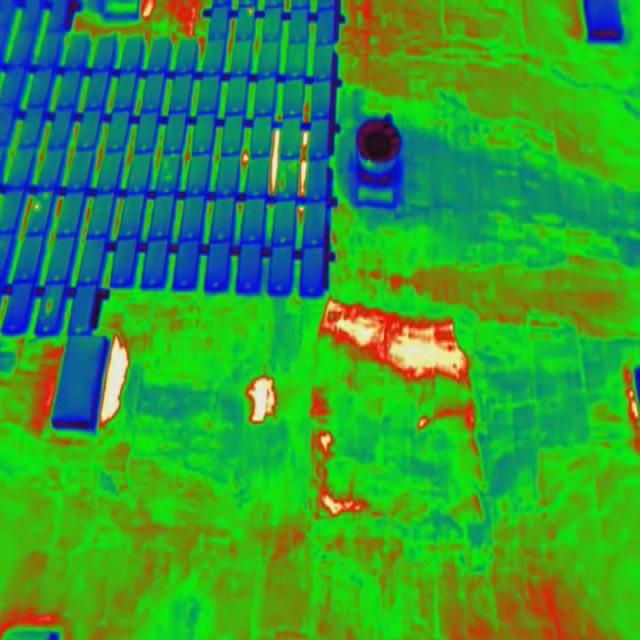Orange-Spots: (46, 298, 53, 313), (34, 200, 41, 213), (280, 175, 284, 193), (248, 7, 253, 19)
